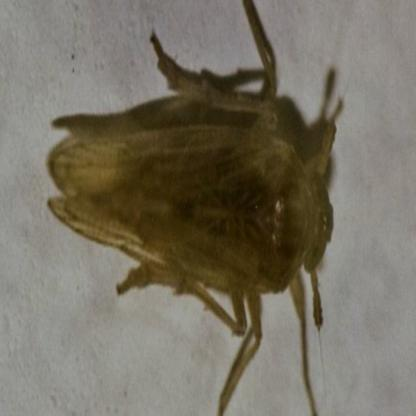brown-planthopper: (47, 78, 335, 330)
